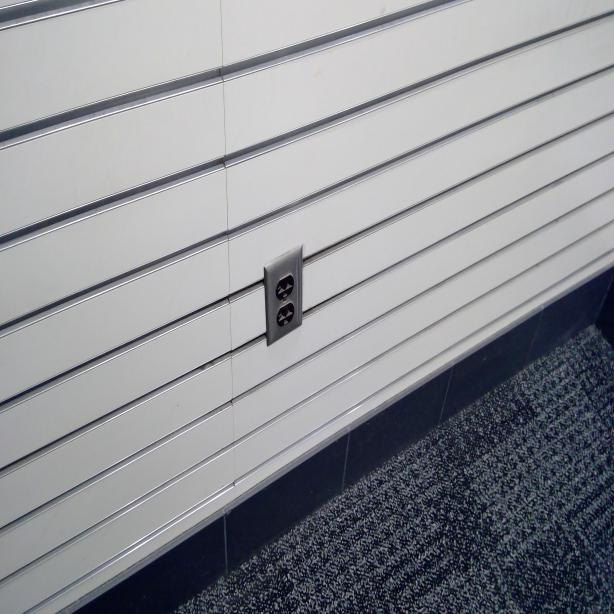typeb: (278, 276, 293, 300), (277, 306, 295, 326)
